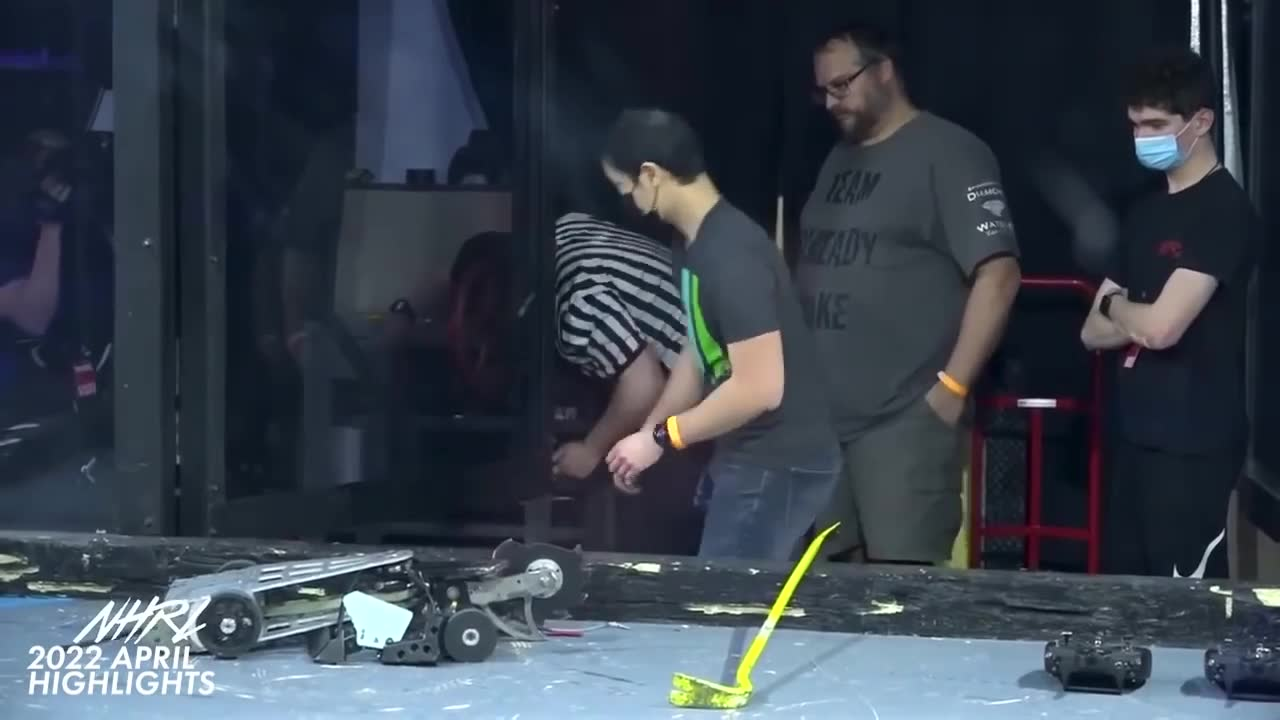combatbot: (142, 545, 507, 660), (307, 540, 584, 667)
